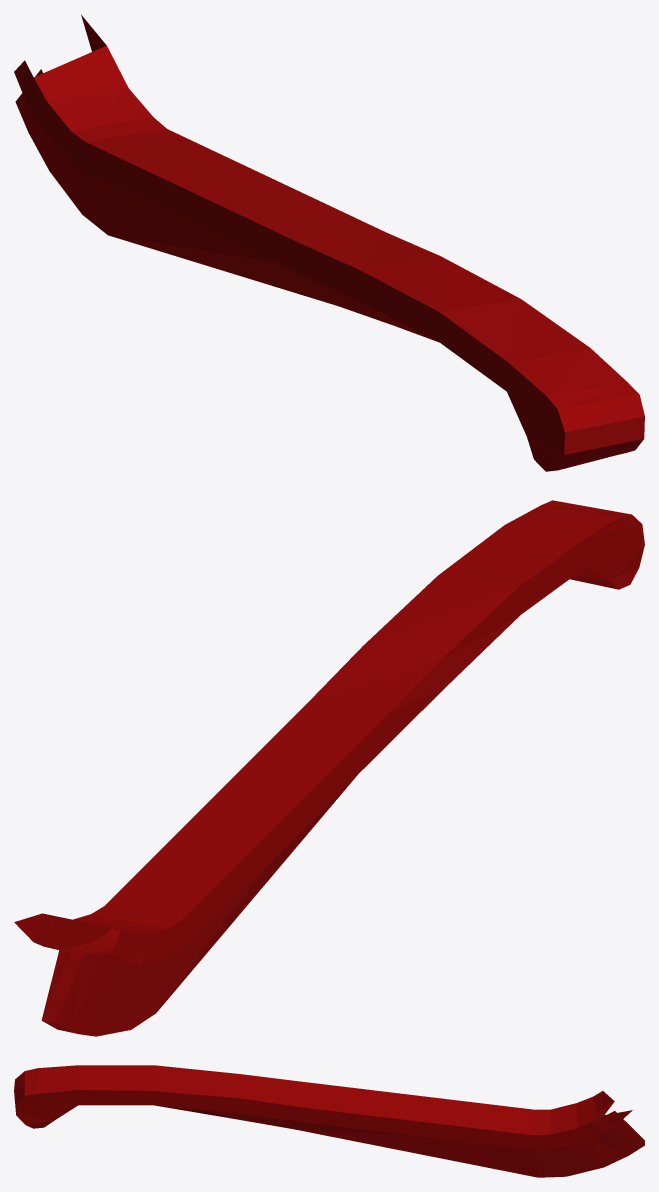
3 views of the same model, one above another, from view 1: azimuth 30°, elevation 25°; view 2: azimuth 150°, elevation 25°; view 3: azimuth 270°, elevation 25° (orthographic). The views are drawn at different scales.
Bounding box in the file's own units: 0.0686 × 0.1385 × 0.7732.
